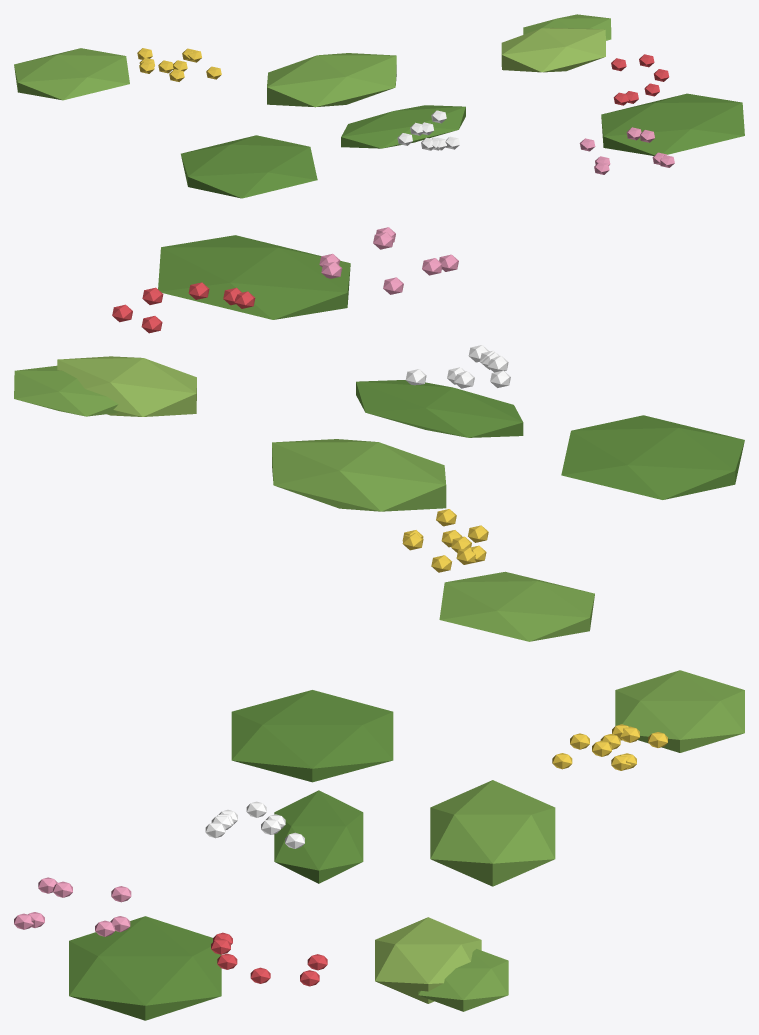
File: Kir_cimen_cicekli_3_Hafif.fbx
3 renders of one model, top to bottom at view 1: azimuth 30°, elevation 25°; view 2: azimuth 150°, elevation 25°; view 3: azimuth 270°, elevation 25°, orthographic. The views are drawn at different scales.
Parts seen in each view (by area): view 1: Kir_cimen_cicekli_3_Hafif; view 2: Kir_cimen_cicekli_3_Hafif; view 3: Kir_cimen_cicekli_3_Hafif.
Part boxes in pixels (<box>): Kir_cimen_cicekli_3_Hafif: <box>14,14,744,198</box>; Kir_cimen_cicekli_3_Hafif: <box>14,227,744,641</box>; Kir_cimen_cicekli_3_Hafif: <box>14,670,744,1020</box>.
Bounding box in the file's own units: 19.01 × 1.01 × 17.45.
